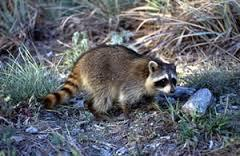raccoon: (39, 43, 178, 127)
